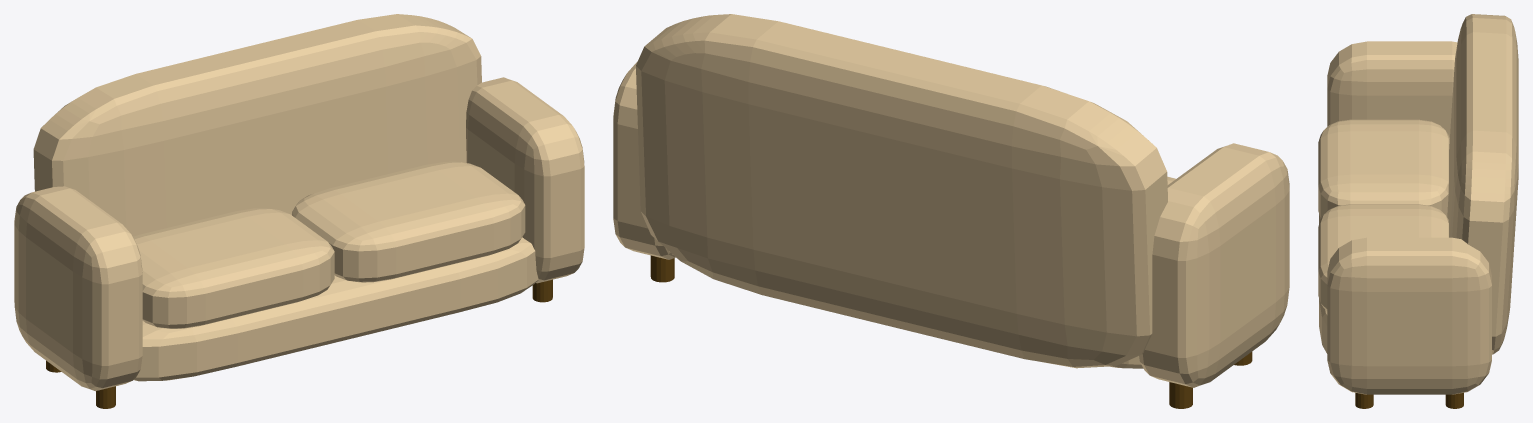
File: Sofa1.fbx
The picture shows the model from 3 angles, left to right: view 1: azimuth 30°, elevation 25°; view 2: azimuth 150°, elevation 25°; view 3: azimuth 270°, elevation 25°; orthographic projection. The views are drawn at different scales.
Parts seen in each view (by area): view 1: Sofa1, CushionRight, CushionLeft; view 2: Sofa1; view 3: Sofa1, CushionLeft, CushionRight.
Part boxes in pixels (<box>): Sofa1: <box>14,14,584,408</box>; CushionRight: <box>292,161,525,282</box>; CushionLeft: <box>133,208,334,328</box>; Sofa1: <box>613,14,1289,408</box>; Sofa1: <box>1319,14,1518,408</box>; CushionLeft: <box>1318,119,1449,218</box>; CushionRight: <box>1318,204,1448,310</box>.
Bounding box in the file's own units: 746 × 356 × 285.
